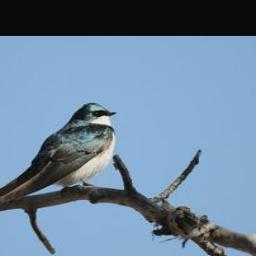Swallow: (0, 100, 119, 204)
